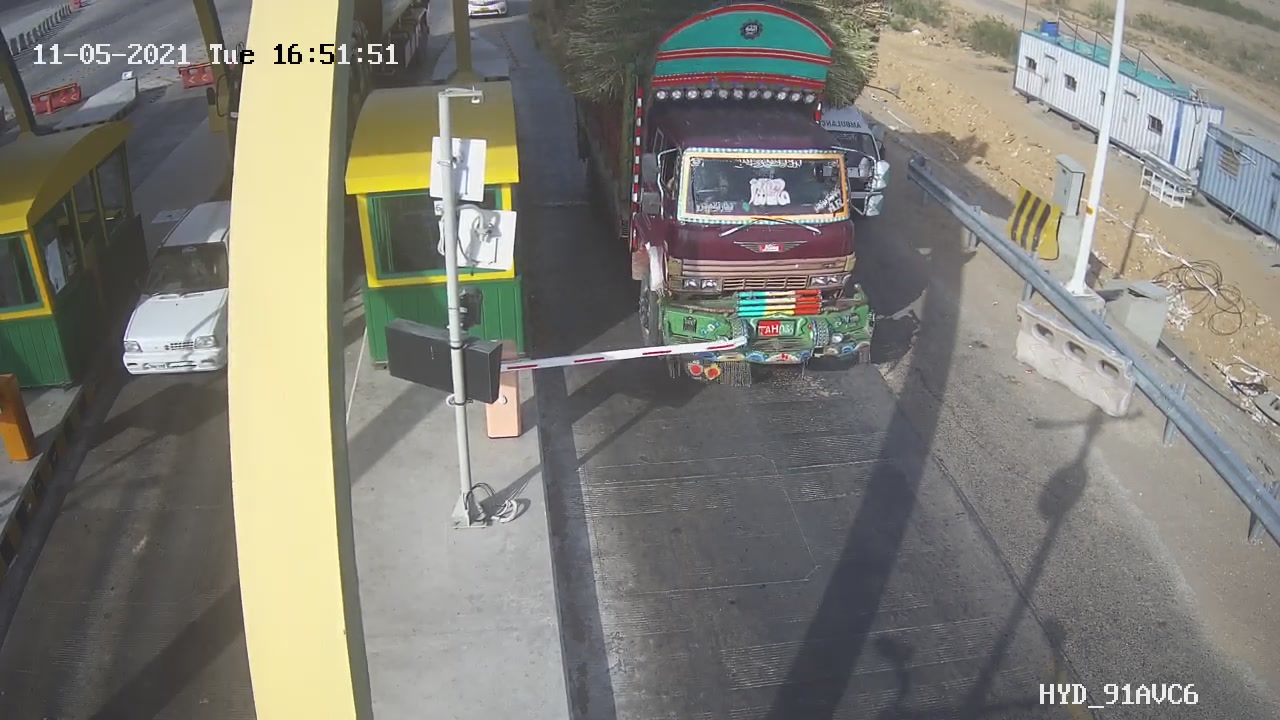F5: (547, 5, 929, 412)
